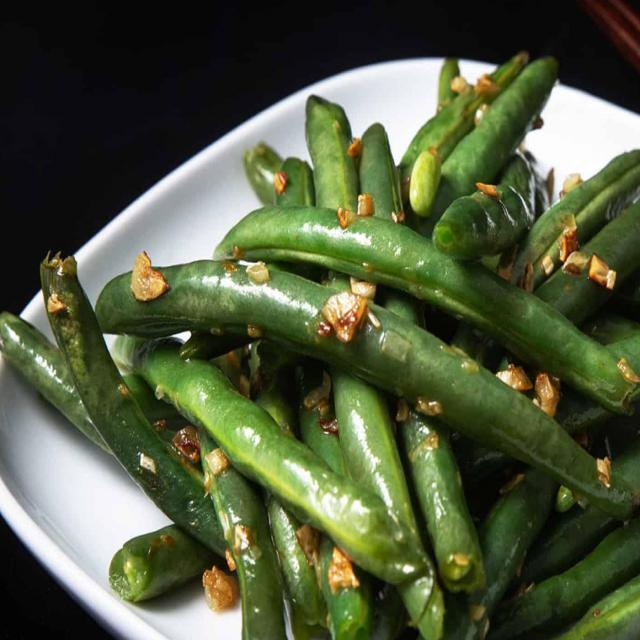Beans: (0, 61, 639, 639)
